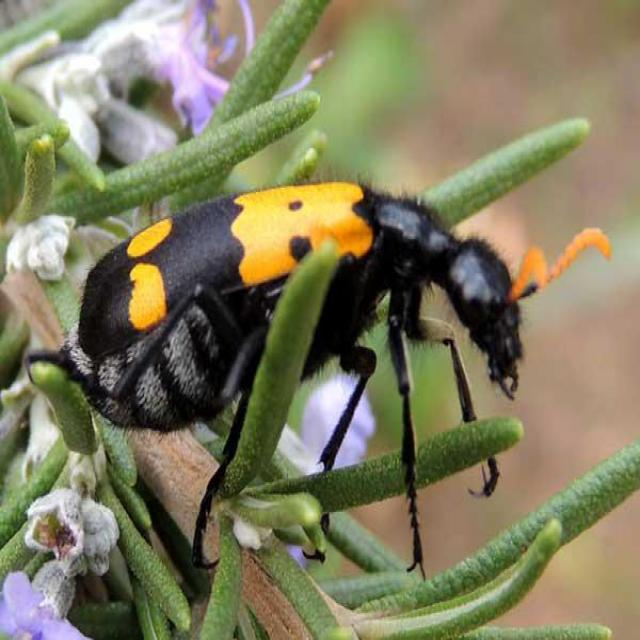BlisterBeetle-Adult-: (41, 174, 616, 522)
